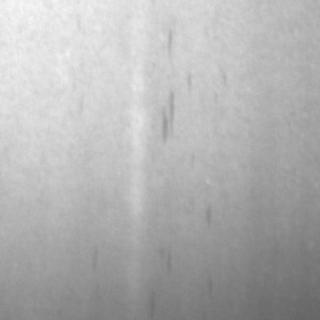inclusion: (154, 86, 180, 142)
